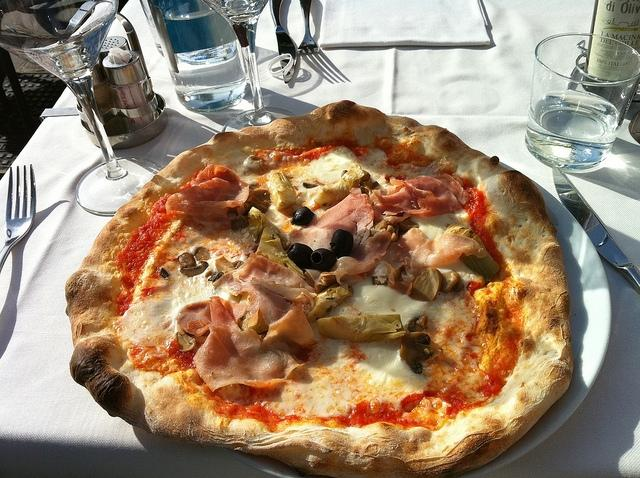mushroom: (442, 224, 500, 284), (400, 332, 444, 374), (408, 266, 442, 301), (205, 255, 244, 282), (178, 252, 208, 277), (246, 307, 268, 334), (341, 170, 371, 188), (176, 331, 196, 352), (242, 156, 265, 174), (246, 188, 271, 203), (441, 272, 458, 294), (448, 271, 464, 293), (194, 247, 211, 261), (250, 156, 261, 160)
